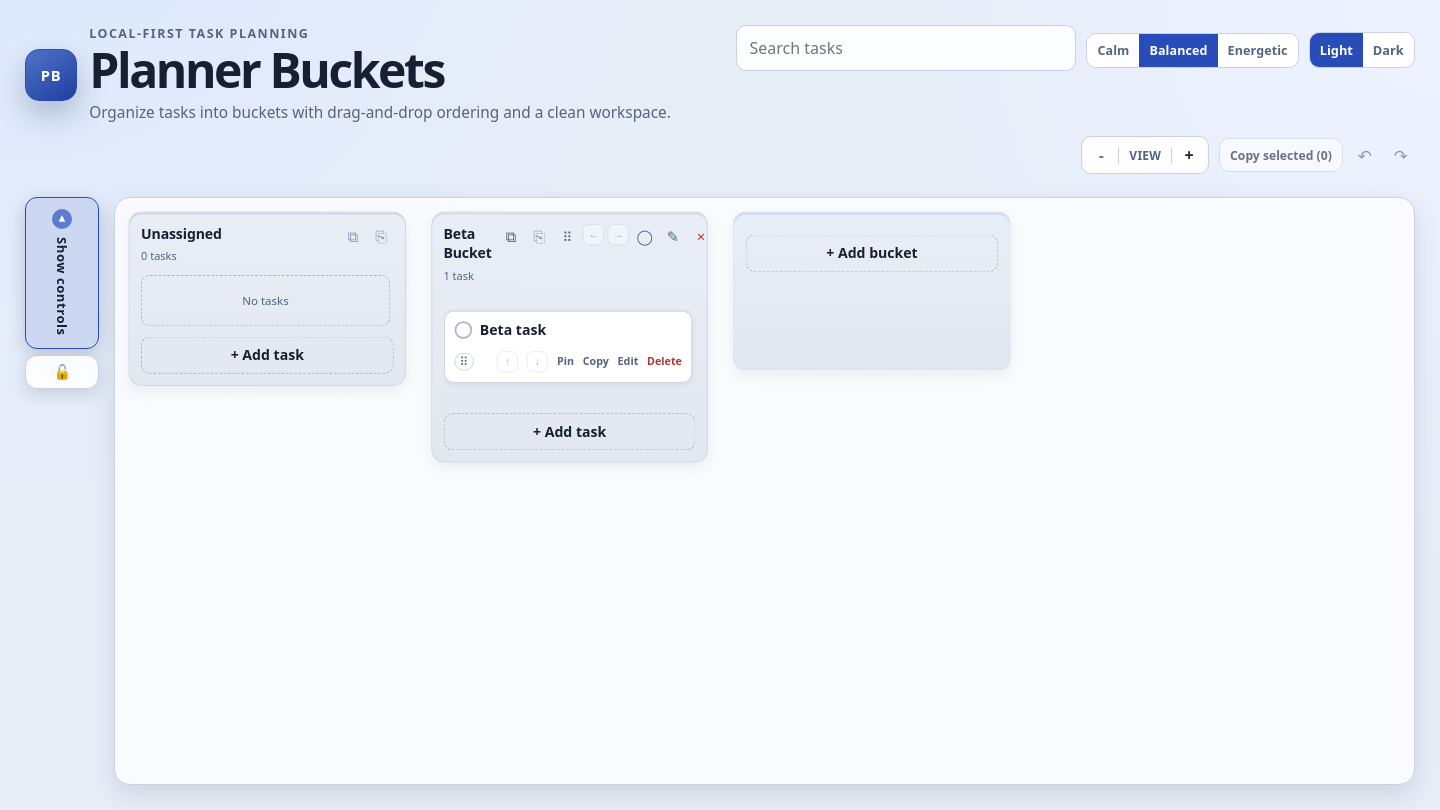
App integration › searches only within the active project
This screenshot has width=1440, height=810.
Step 1. Type "Alpha" into the field labelled "Search tasks" → (906, 48), box [745,31,1067,65]
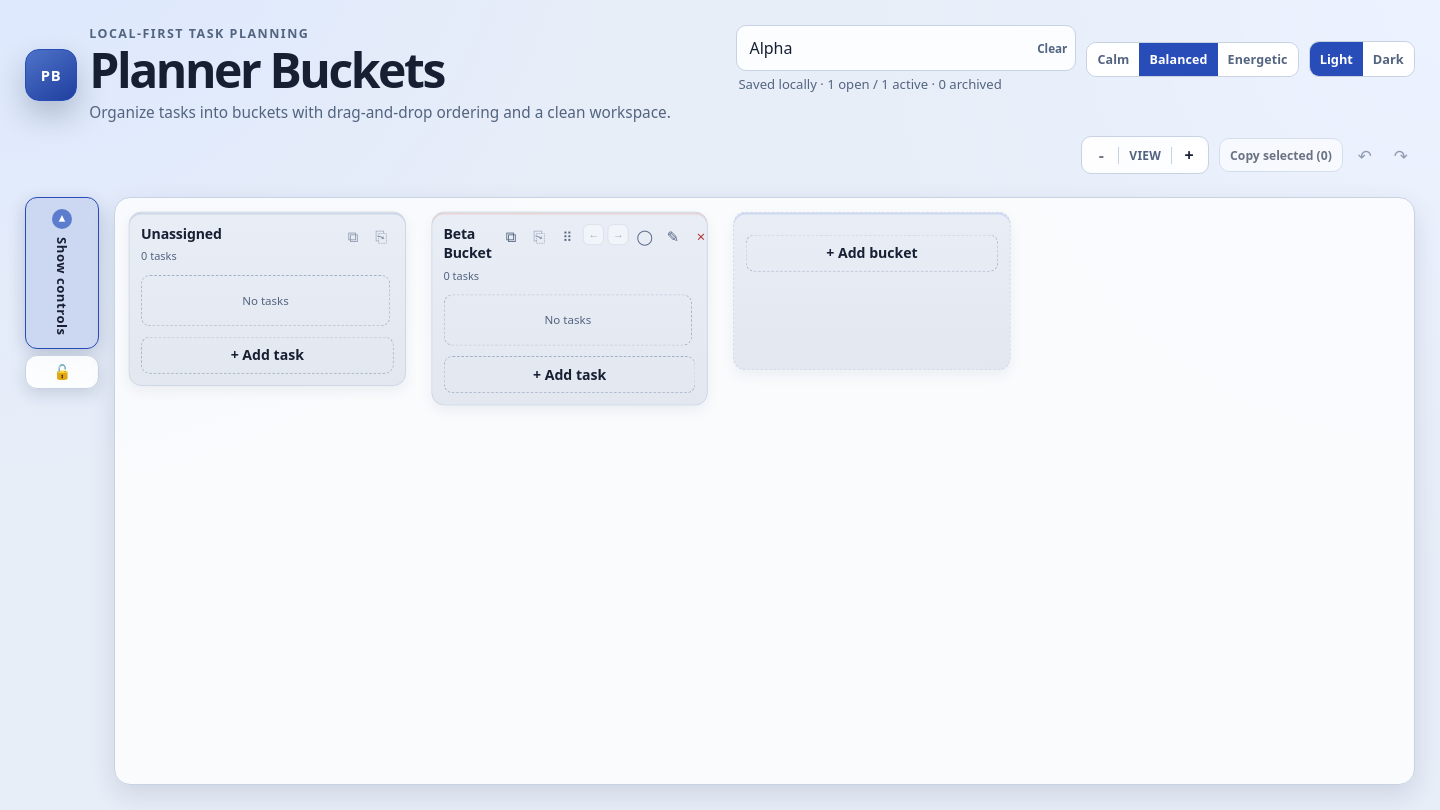
Now the button "Beta task" is gone
